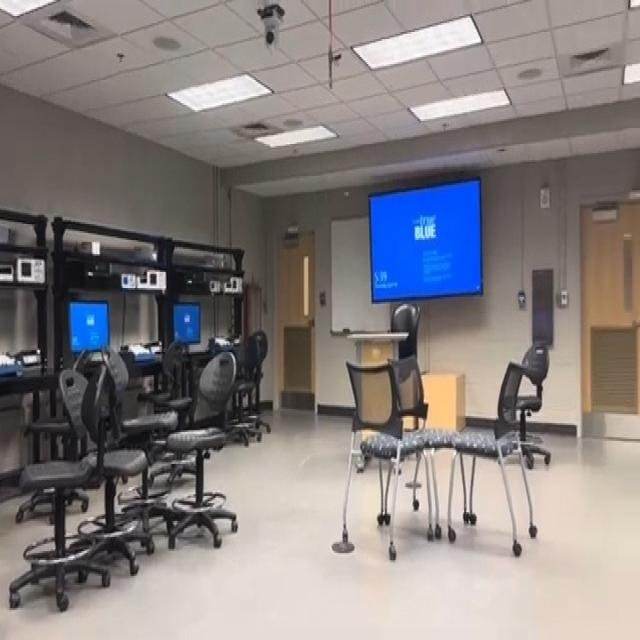drone: (333, 176, 361, 212)
